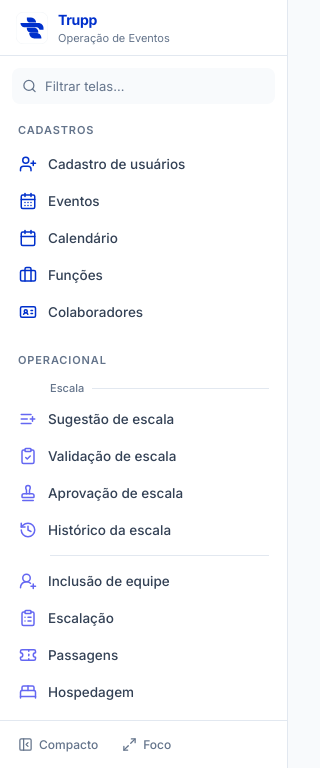
Test: Menu: o grupo Financeiro virou Honorários (slide 11) › o menu desenha o sub-rótulo, sem números; a busca acha pelo nome antigo
Step 1. Type "Controle RH" into the field named "Buscar tela no menu" → (144,86), box left=12, top=68, right=275, bottom=104
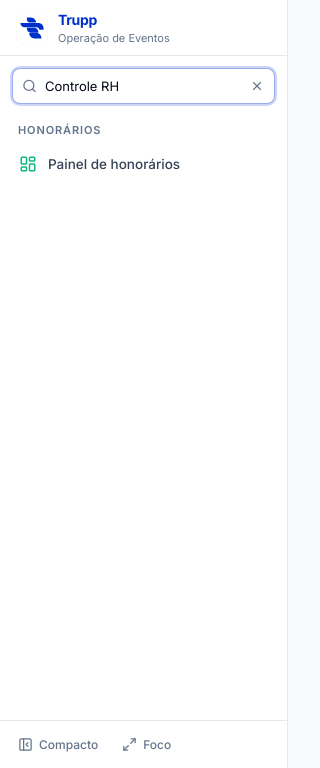
Expected: the text "Painel de honorários" is shown, left=48, top=156, right=180, bottom=172
